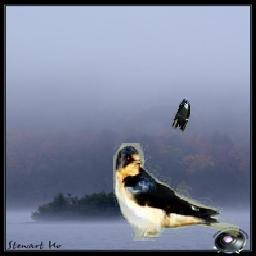Swallow: (113, 143, 239, 241), (172, 98, 191, 133)
